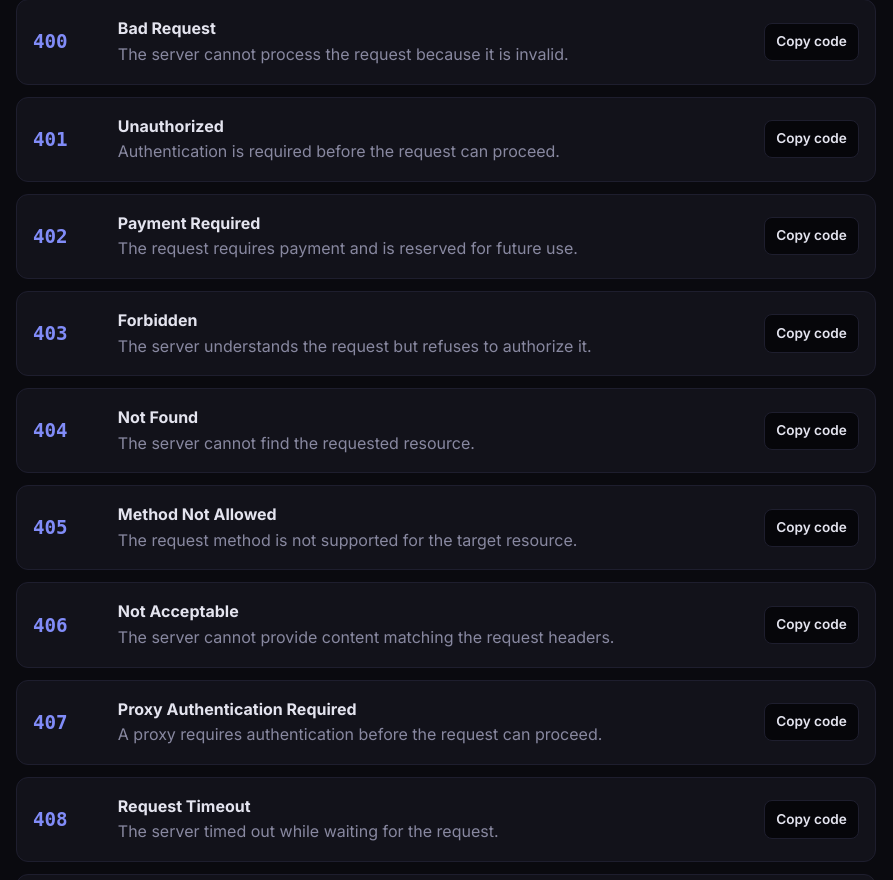
Test: HttpStatusTool › announces a copy failure
This screenshot has width=893, height=880.
(page scrolled)
Click the button with aria-label "Copy status code 404" at point(812, 431), box [764, 412, 859, 450]
(page scrolled)
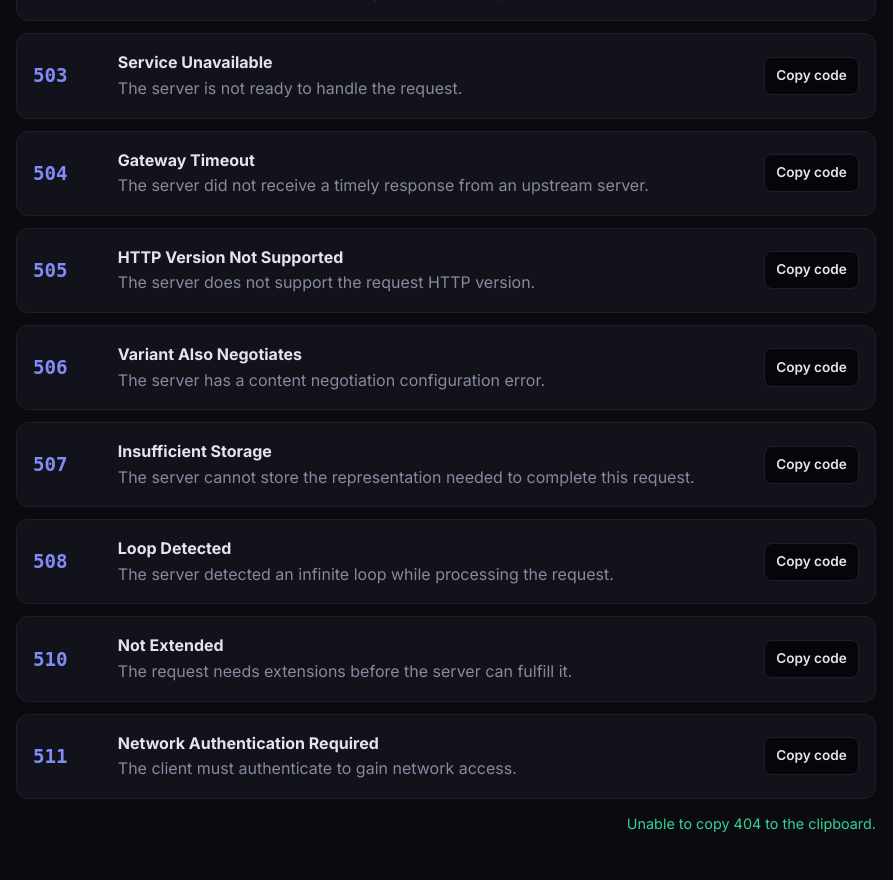
expect the message shows "Unable to copy 404": met, box [627, 815, 876, 832]
